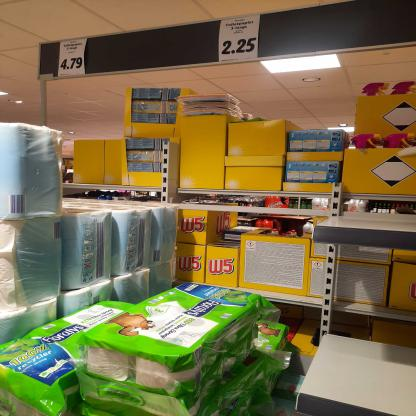prtg: (220, 16, 262, 63), (59, 39, 89, 78)
